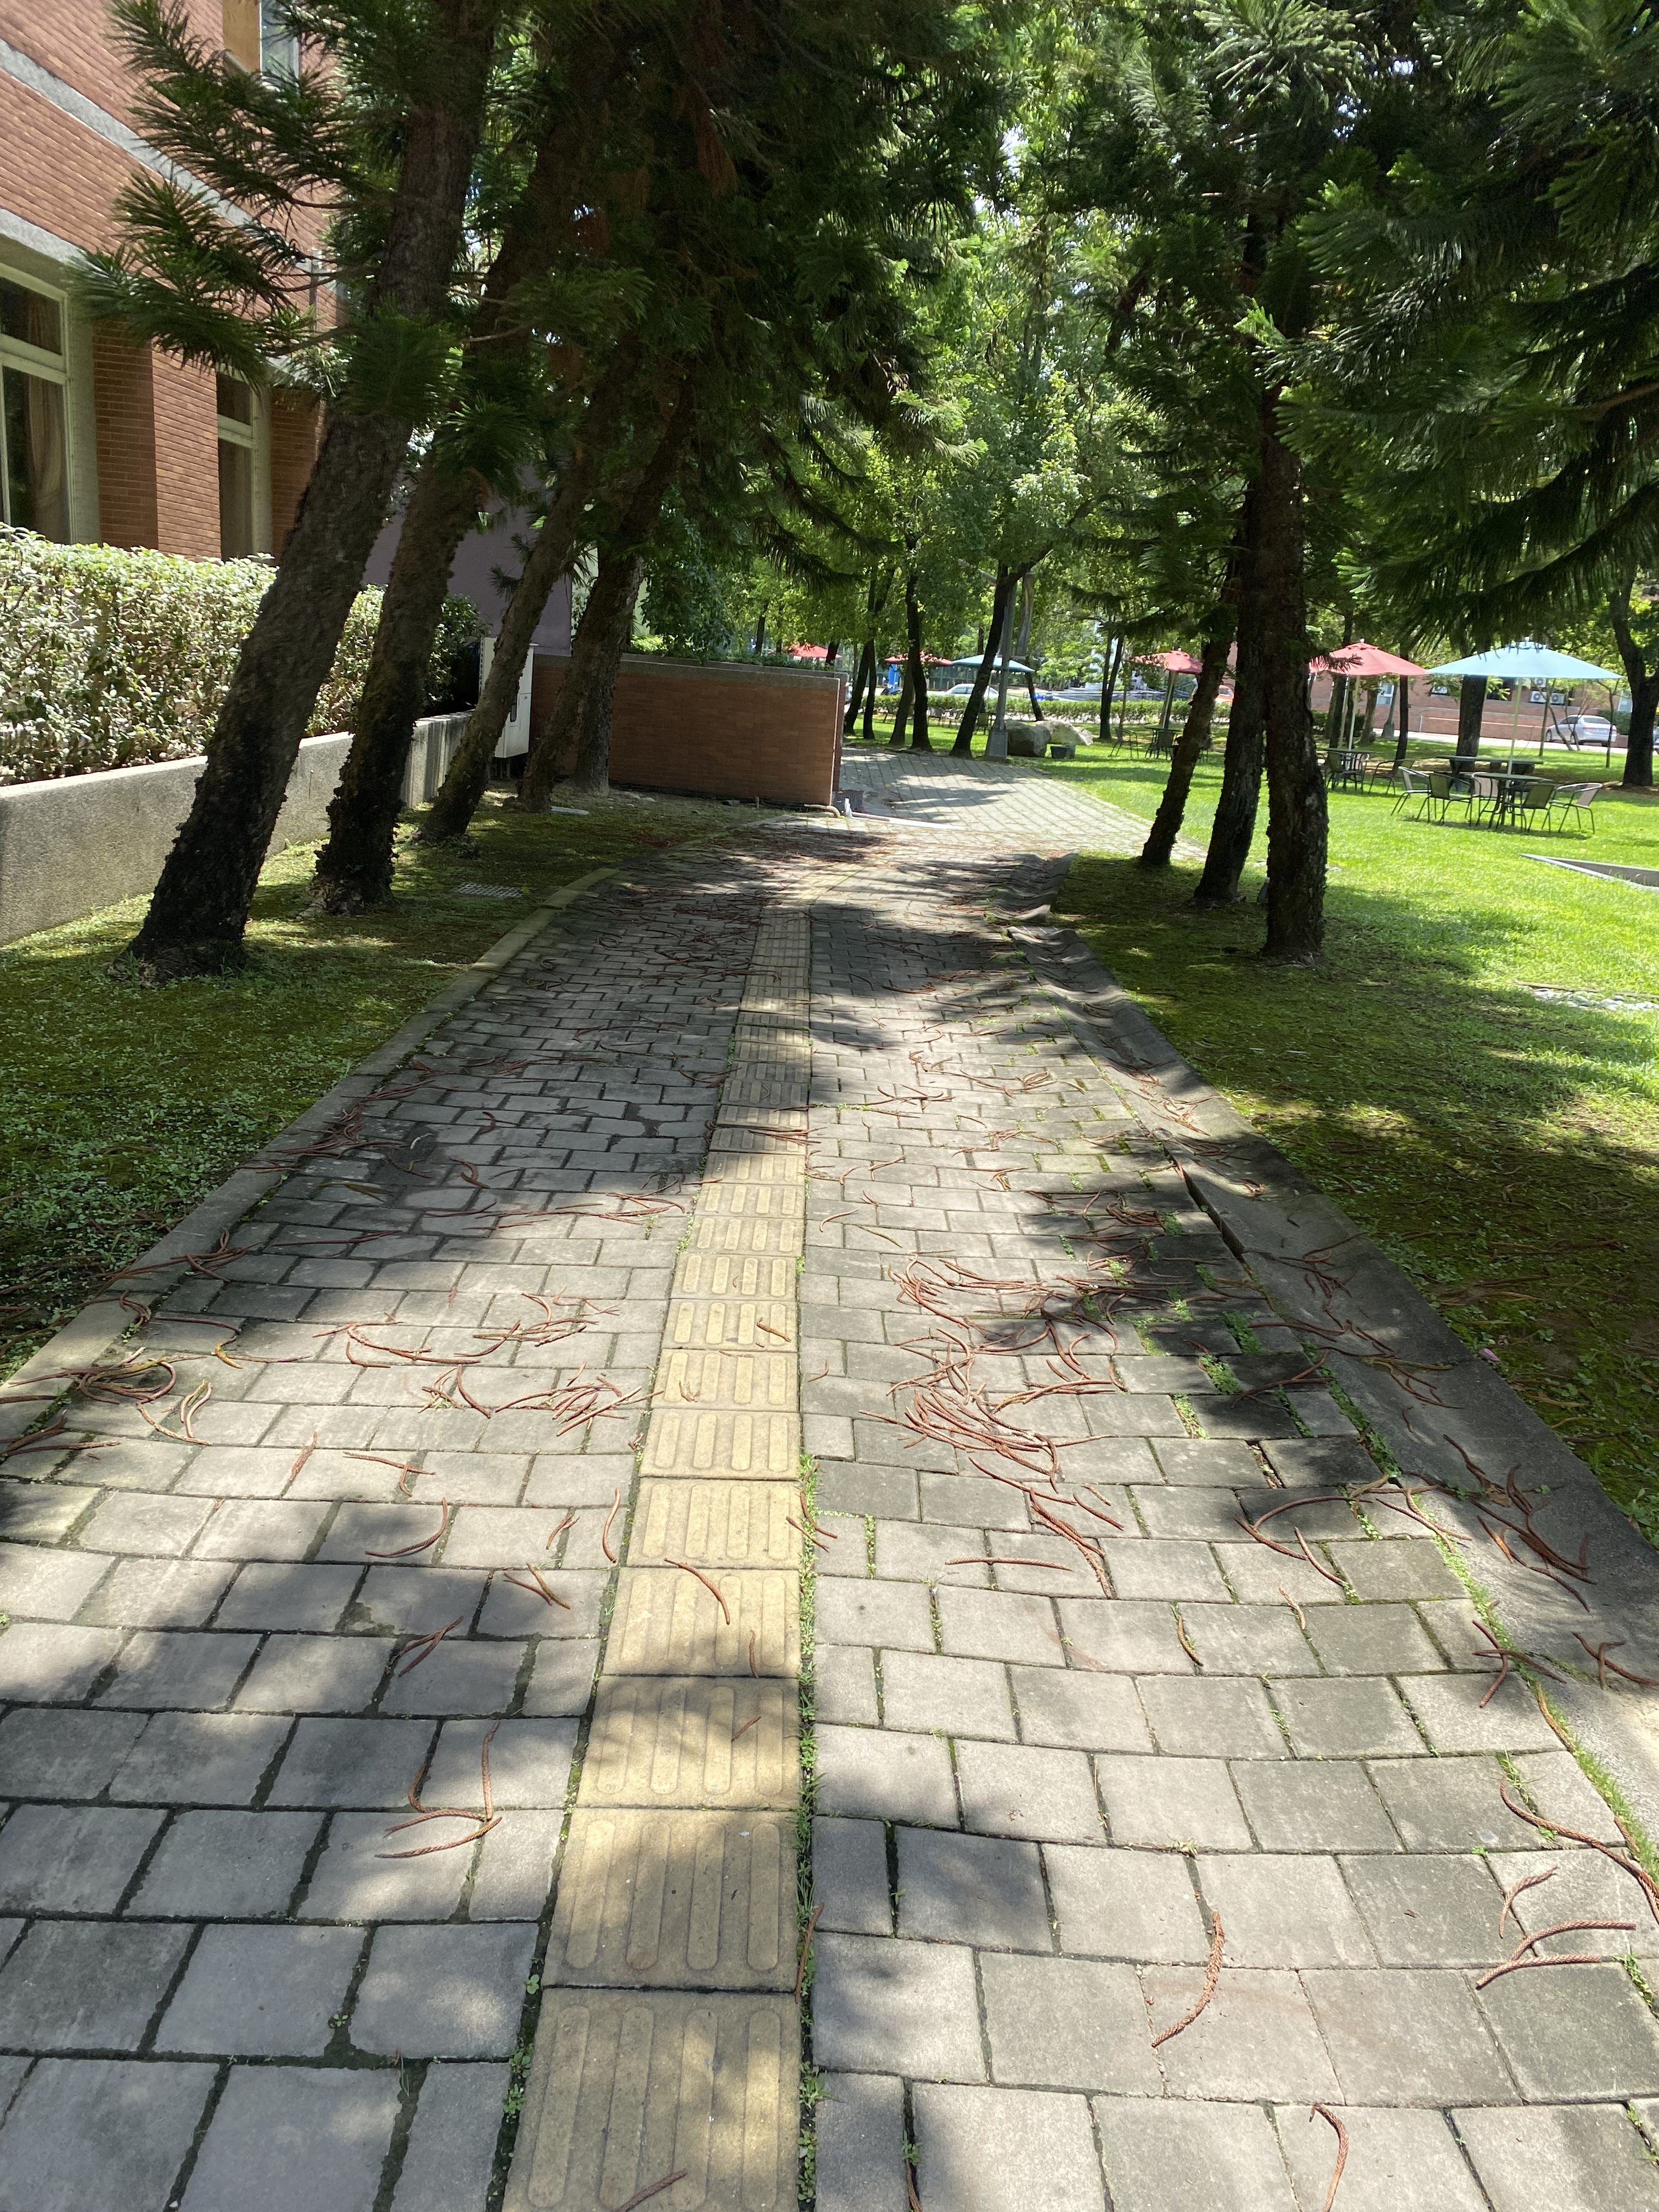sidewalk: (12, 634, 1659, 2203)
